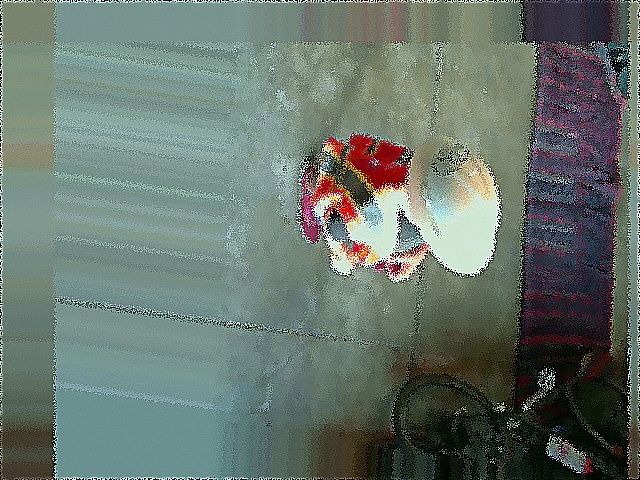eight: (430, 138, 469, 180)
